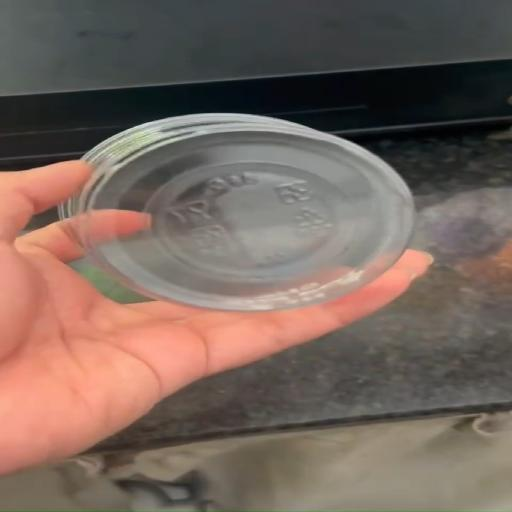ly_nhua: (59, 113, 411, 311)
